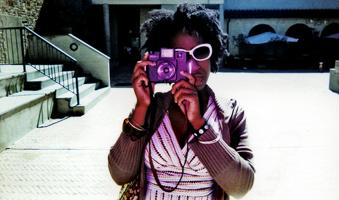person: (107, 7, 256, 199)
